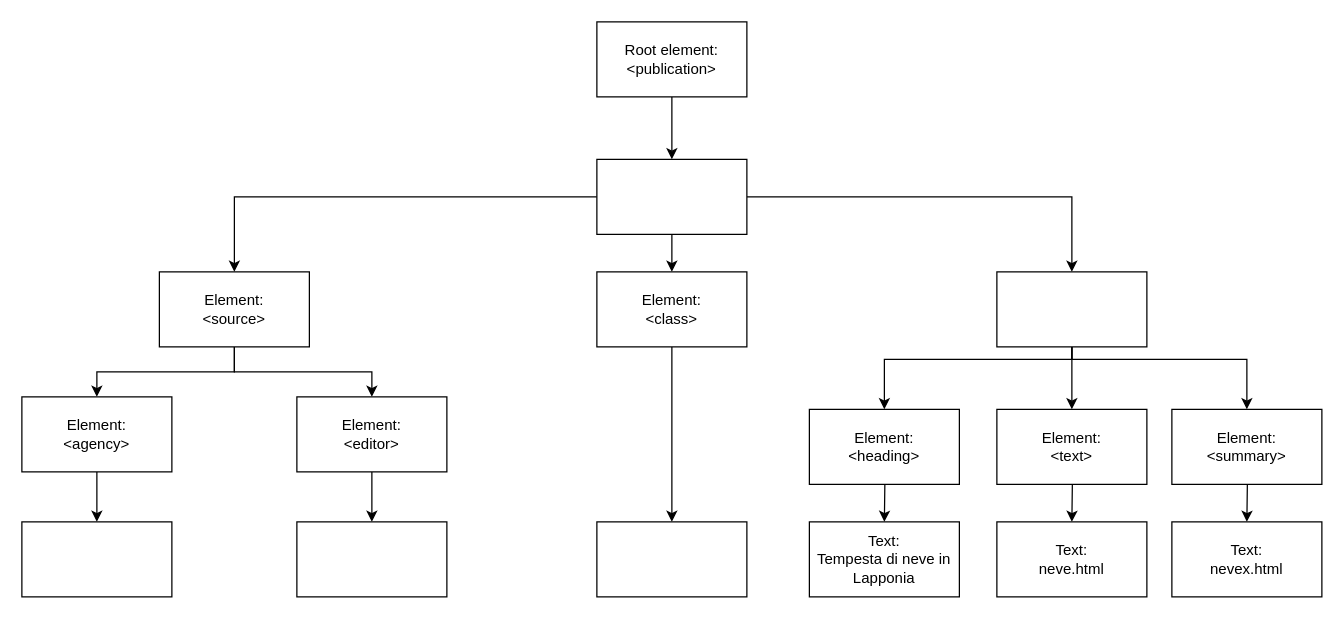
Image size: 1344x619. Some labels were removed from this diagram. The box of each missing label's shape, as (x1, y1, x2, y2) in pixels:
Element: <article>: (996, 271, 1147, 347)
Element: <newsitem>: (596, 158, 747, 234)
Text: local: (596, 521, 747, 597)
Text: Miller: (296, 521, 447, 597)
Text: STT: (21, 521, 172, 597)
